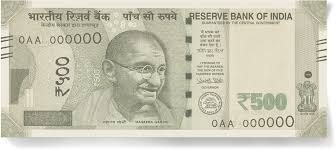fiveHundred: (14, 24, 303, 118)
